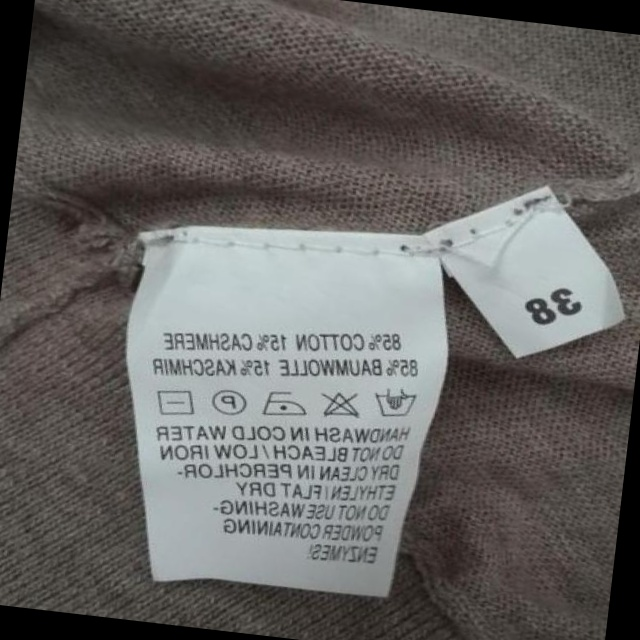DN_bleach: (316, 385, 361, 421)
dry_clean_any_solvent_except_trichloroethylene: (204, 383, 250, 417)
dry_flat: (153, 384, 197, 419)
hand_wash: (368, 382, 417, 421)
iron_low: (261, 386, 306, 420)
